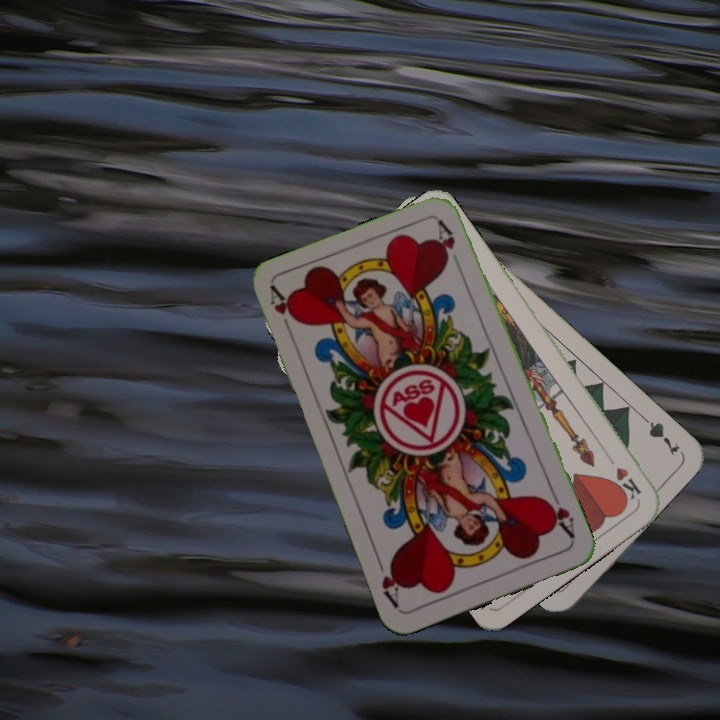G7: (635, 409, 683, 458)
HA: (540, 486, 578, 543), (266, 283, 302, 341)
HK: (601, 449, 644, 503)
